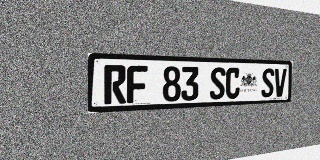3: (181, 66, 199, 101)
8: (163, 66, 181, 102)
C: (225, 67, 240, 99)
F: (127, 65, 148, 103)
R: (104, 65, 126, 104)
S: (210, 67, 226, 100), (261, 68, 275, 97)
V: (274, 68, 287, 97)
